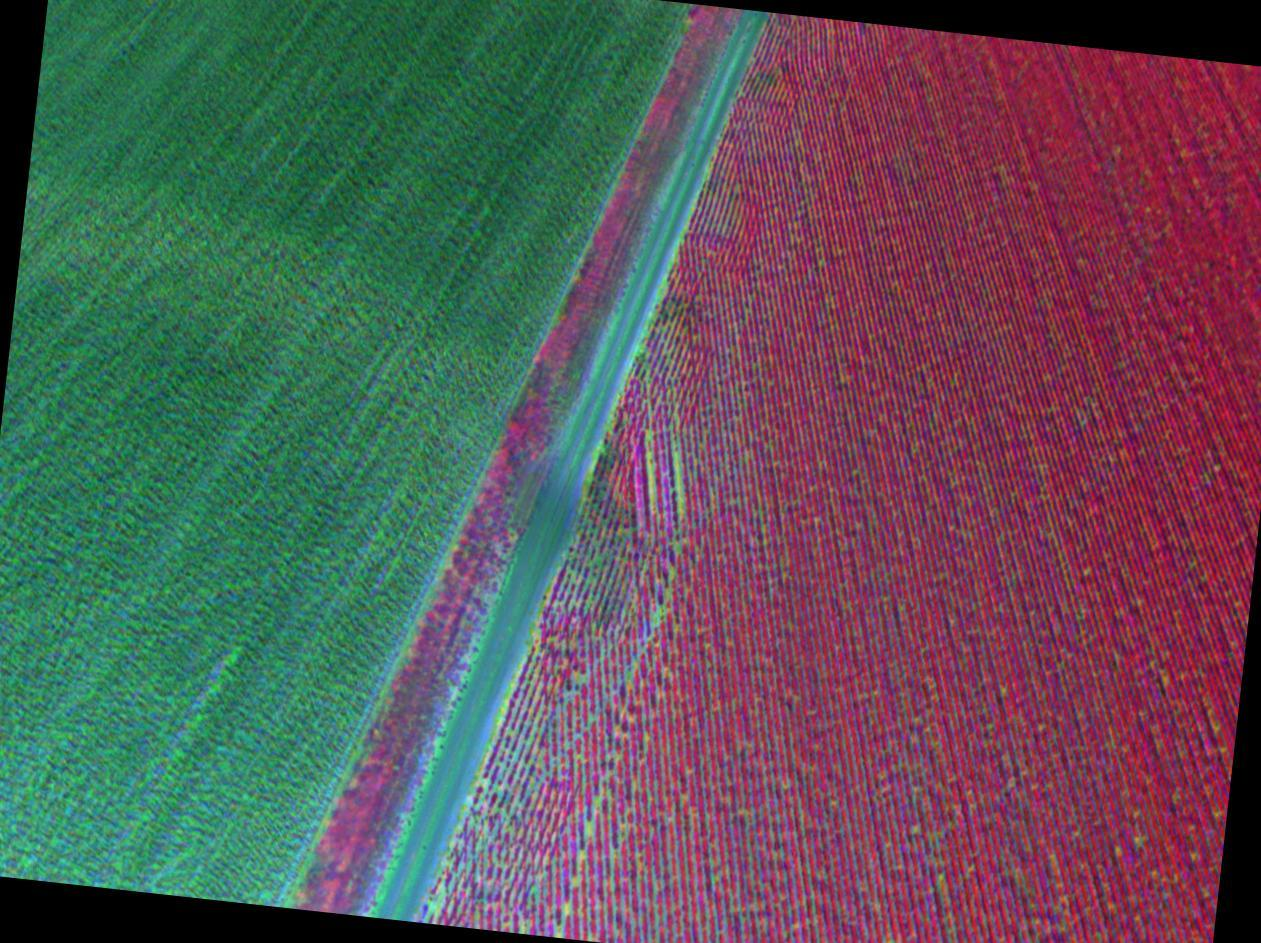dc: (586, 825, 591, 829), (596, 801, 599, 805), (644, 737, 647, 740), (564, 908, 567, 911), (574, 880, 576, 883), (1216, 467, 1218, 469), (579, 853, 580, 854)
